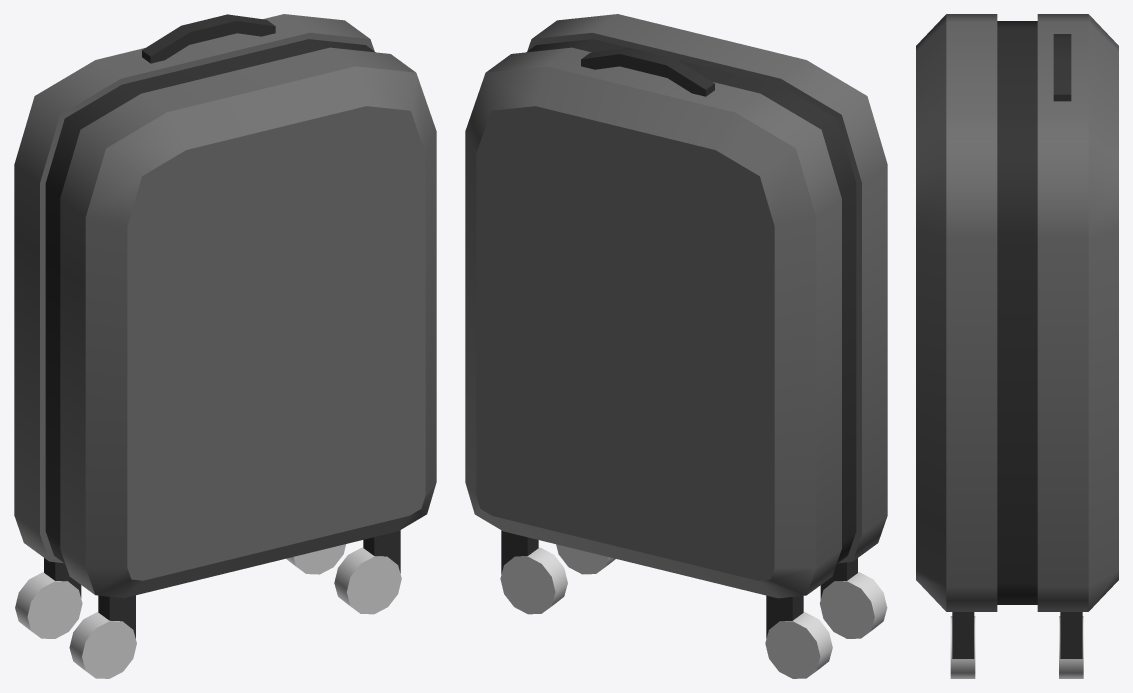
The model's file is Petite_Valise_Noire.fbx.
The picture shows the model from 3 angles, left to right: view 1: azimuth 30°, elevation 25°; view 2: azimuth 150°, elevation 25°; view 3: azimuth 270°, elevation 25°; orthographic projection.
Visible parts, largest first — view 1: Petite_Valise_Noire; view 2: Petite_Valise_Noire; view 3: Petite_Valise_Noire.
Boxes of the visible parts, x1,y1,x2,y2 form: Petite_Valise_Noire: (14, 14, 436, 678); Petite_Valise_Noire: (465, 14, 887, 678); Petite_Valise_Noire: (916, 14, 1118, 678).
Bounding box in the file's own units: 45.95 × 71.8 × 23.01.
1 material, 1 textured.
